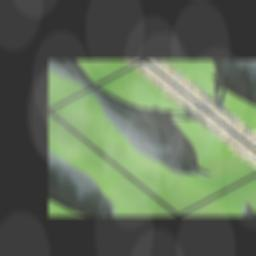Crow: (73, 64, 251, 190)
